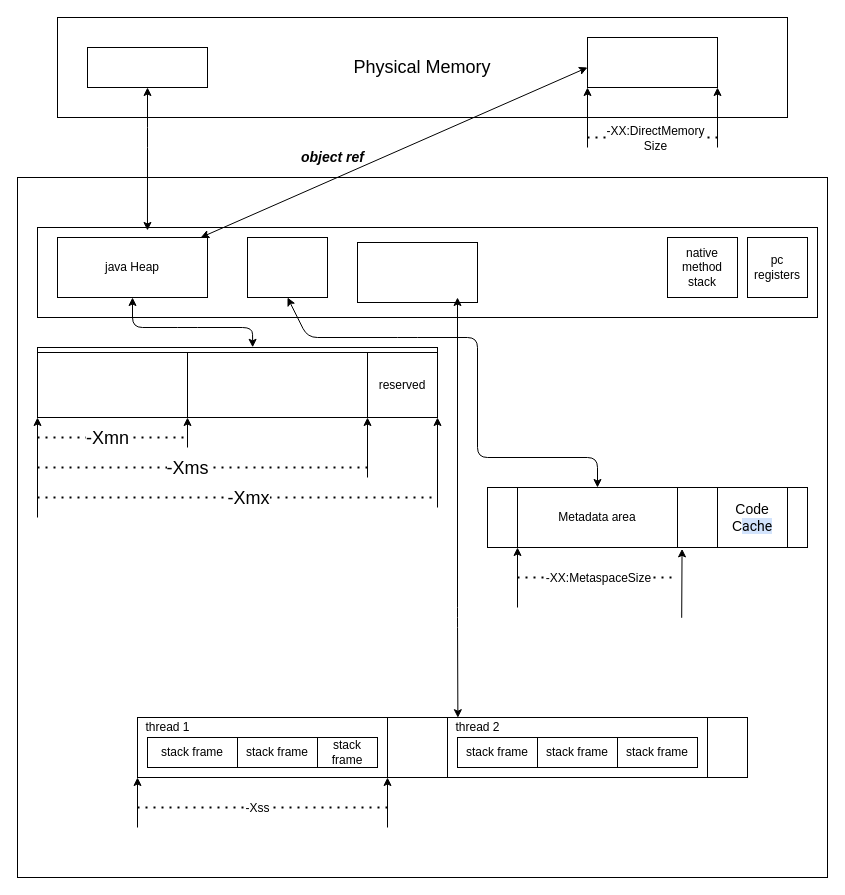
This 845x895 diagram has some shape labels left out. The shapes that lost their labels are listed below. From the top down, each one's box as (x1, y1, x2, y2) in pixels, then its label:
(86, 46, 208, 88): JVM
(586, 36, 718, 88): Direct Memory
(246, 236, 328, 298): Non Heap
(356, 242, 478, 302): java method stack
(36, 352, 188, 418): yong
(186, 352, 368, 418): Old
